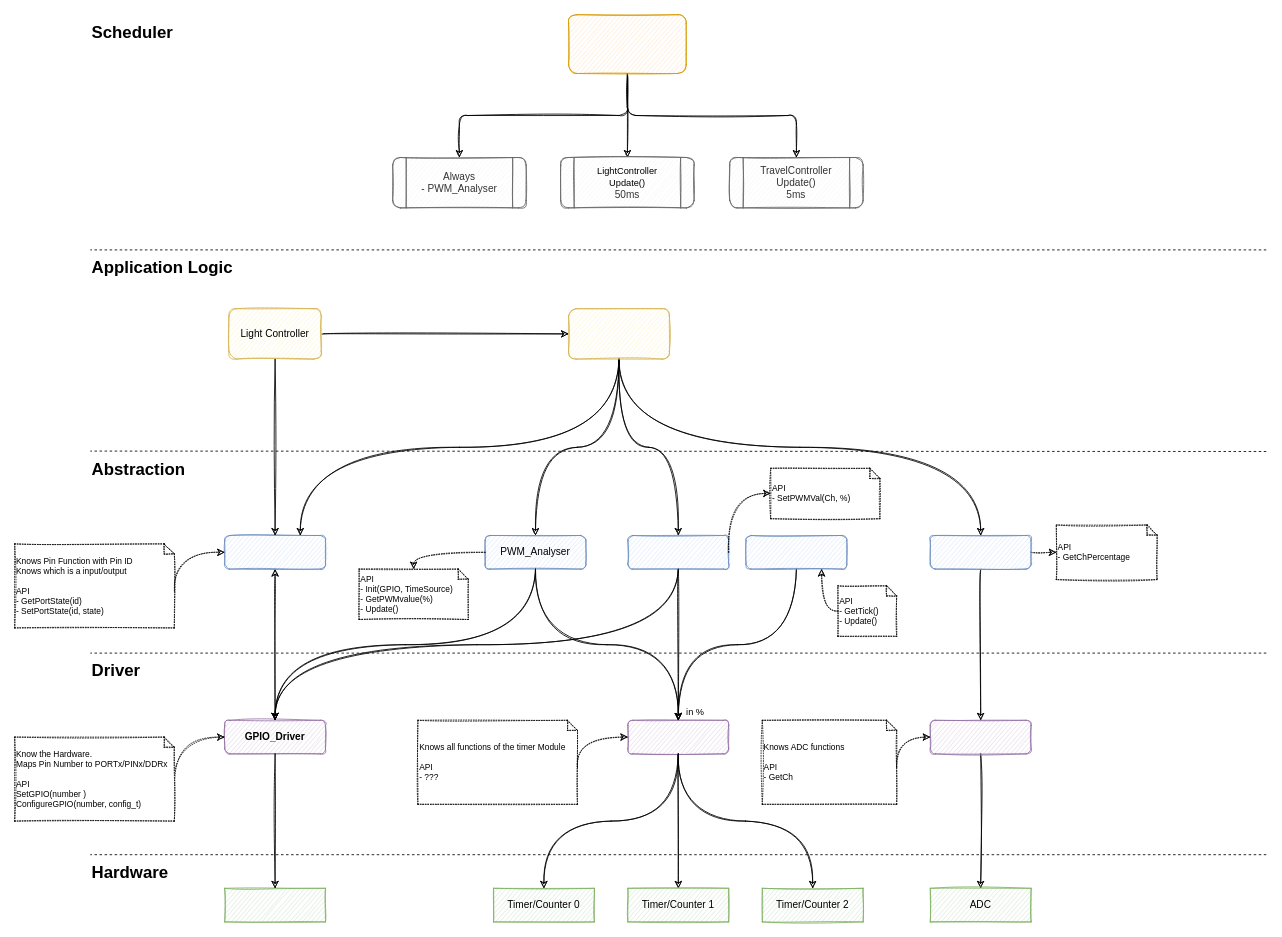
Some shapes in this 1282 by 937 pixel diagram are drawn without their labels. Each missing label, with the centre of its shape:
ADC_Driver: point (980, 736)
ADC_Reader (AnalogToProzent): point (980, 552)
Input/Output - GPIO Mapper: point (275, 552)
PORTS: point (275, 904)
PWM_Handler: point (678, 552)
Scheduler (1ms): point (627, 44)
SysClock: point (796, 552)
Timer_Driver: point (678, 736)
Travel Controller: point (618, 333)
